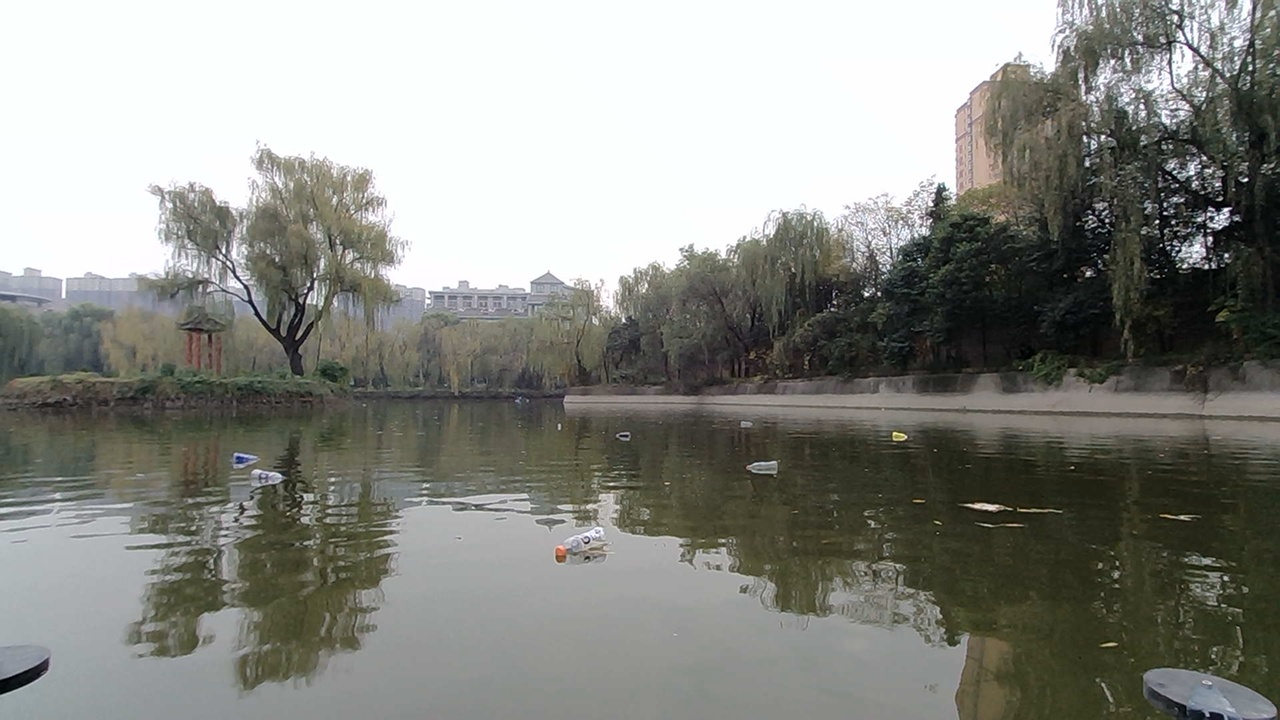bottle: (243, 453, 290, 495), (740, 442, 787, 484), (549, 533, 595, 568), (883, 418, 917, 455), (615, 418, 650, 451), (554, 419, 580, 443), (232, 448, 255, 474)
